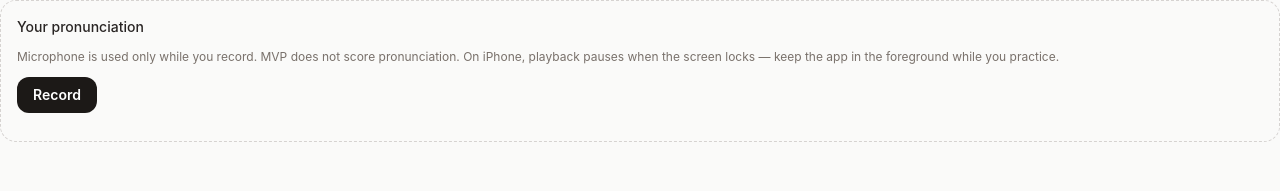
LearnerRecordingPanel › reports a failed stop and returns to the idle state
Click the button "Record".
click(57, 95)  # box [17,77,97,113]
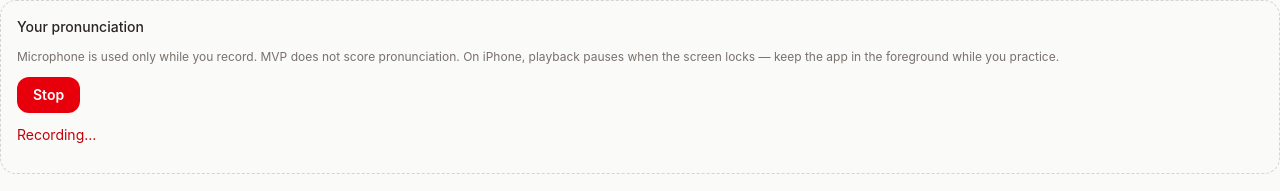
Result: the button "Stop" is shown
Click the button "Stop".
click(49, 95)  # box [17,77,80,113]
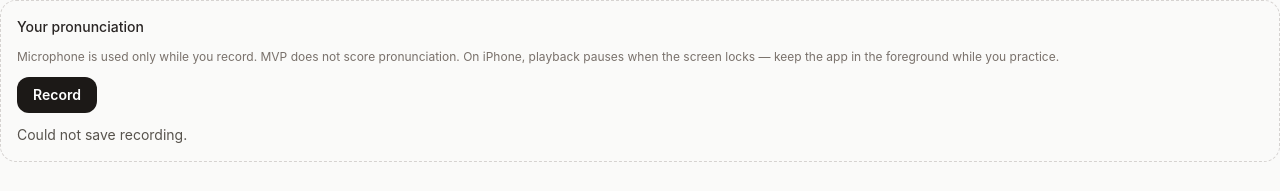
Result: the text "Could not save recording." is shown at [17,126,187,143]
Result: the button "Record" is shown at [17,77,97,113]
